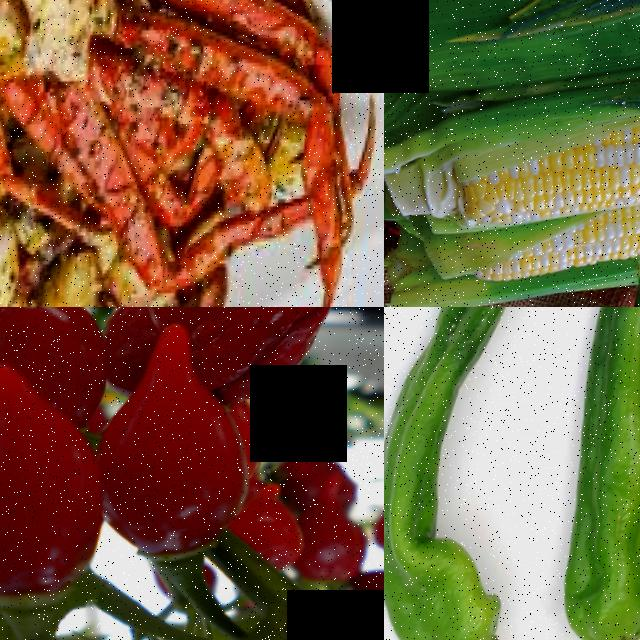chilli: (384, 307, 566, 640), (88, 319, 265, 598), (0, 345, 120, 640), (541, 307, 640, 640)
corn: (456, 90, 640, 243), (476, 194, 640, 298)
crab: (82, 0, 381, 291)
